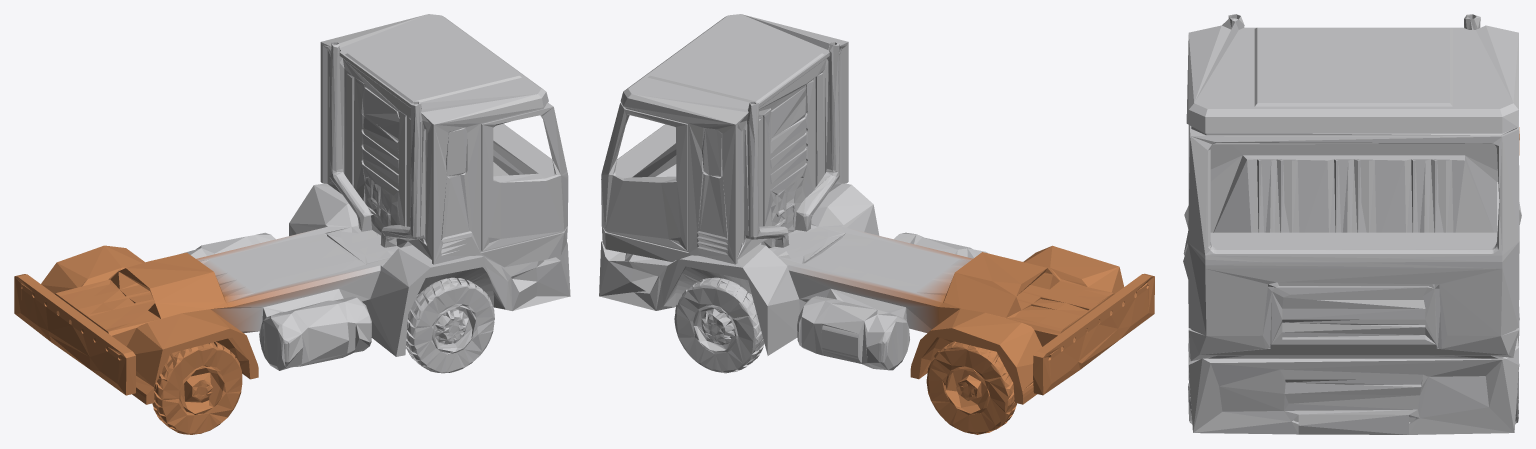
The model's file is truck_optimised.glb.
3 renders of one model, left to right at view 1: azimuth 30°, elevation 25°; view 2: azimuth 150°, elevation 25°; view 3: azimuth 270°, elevation 25°, orthographic. The views are drawn at different scales.
Visible parts, largest first — view 1: world; view 2: world; view 3: world.
Part boxes in pixels (<box>): world: <box>14,14,570,434</box>; world: <box>599,14,1154,434</box>; world: <box>1183,14,1521,434</box>.
Size of the model in its own units: 1.5 by 0.8425 by 0.6681.
